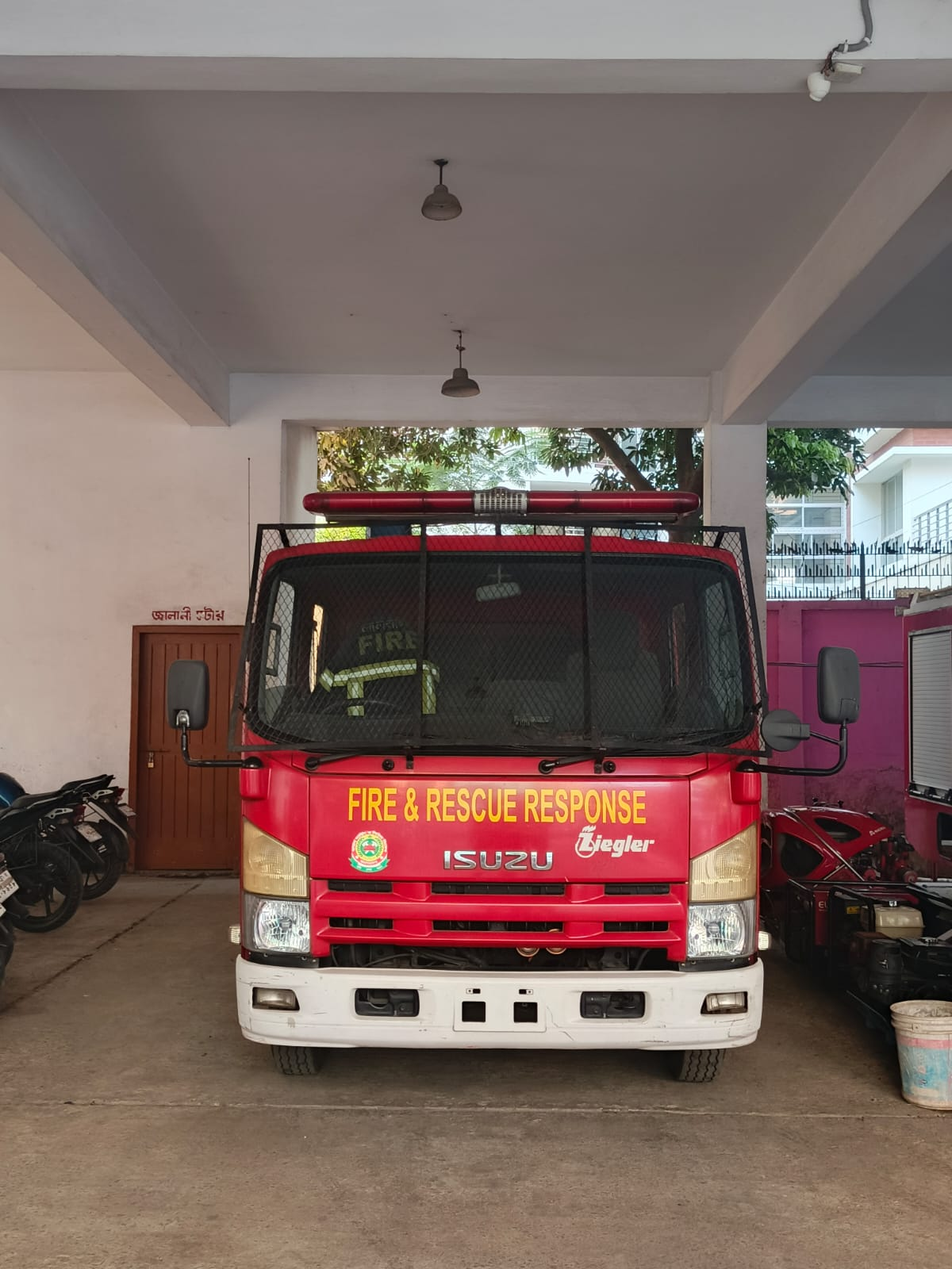Fire truck: (164, 466, 812, 1162)
